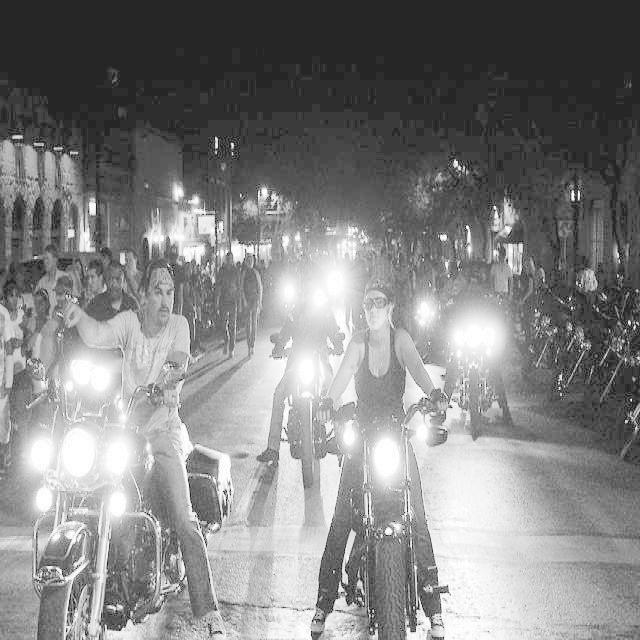Motorcycle: (16, 346, 254, 635), (296, 381, 476, 640), (265, 327, 351, 484), (557, 243, 629, 415), (431, 302, 534, 422), (587, 286, 640, 429), (16, 348, 65, 498), (529, 276, 572, 403)
